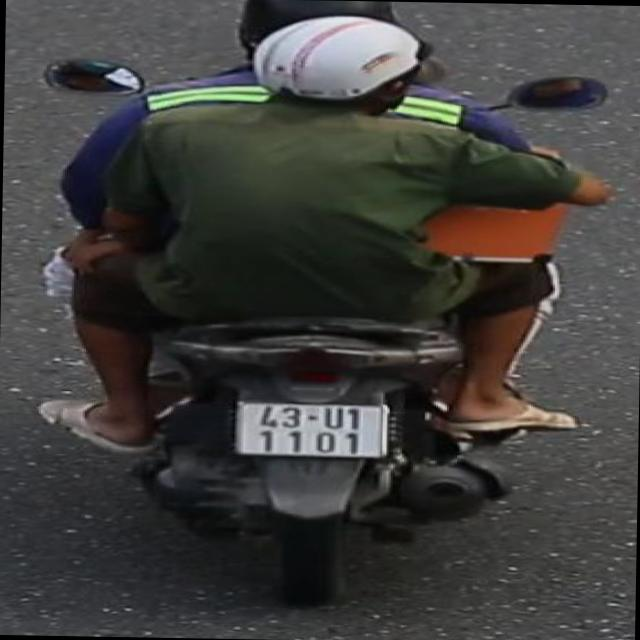LP: (231, 396, 398, 462)
helmet: (251, 11, 434, 130)
